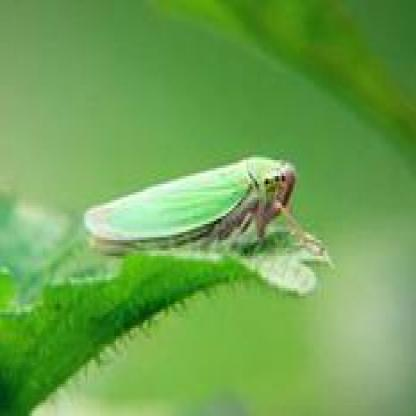Green-Leafhopper: (80, 151, 311, 280)
